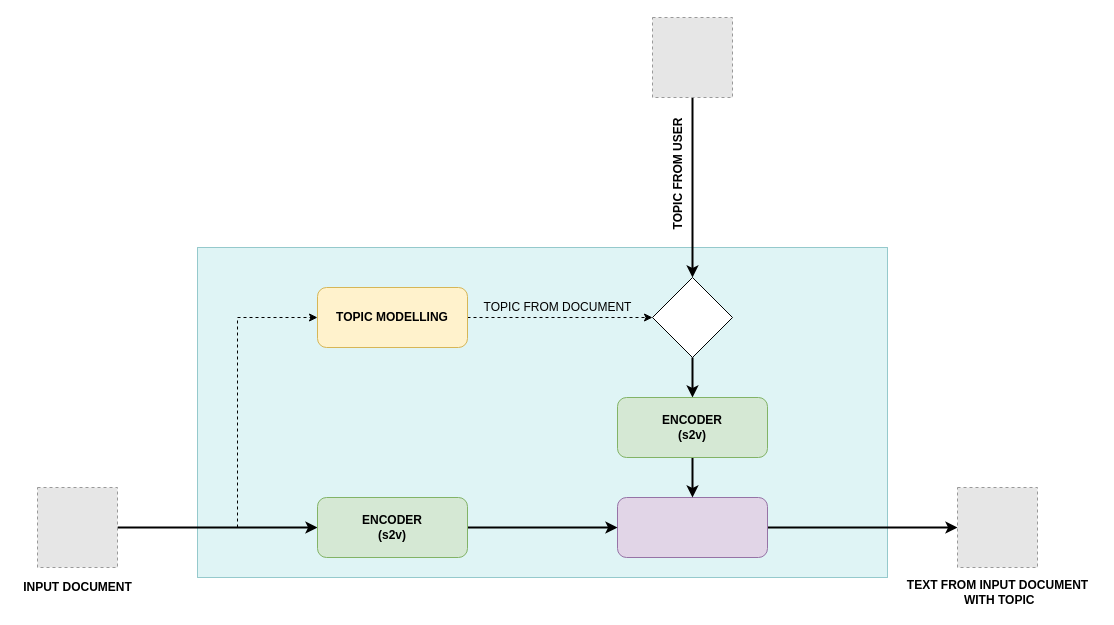
The diagram is 1114 pixels wide and 625 high, and some of its shapes have lost their labels. Grey dashed boxes stand in for pictures. The shapes that lost their labels are listed below. From the top down, each one's box as (x1, y1, x2, y2) in pixels, then its label:
(652, 276, 732, 358): USER OR DOC TOPIC
(616, 496, 768, 558): COSINE SIMILARITY
